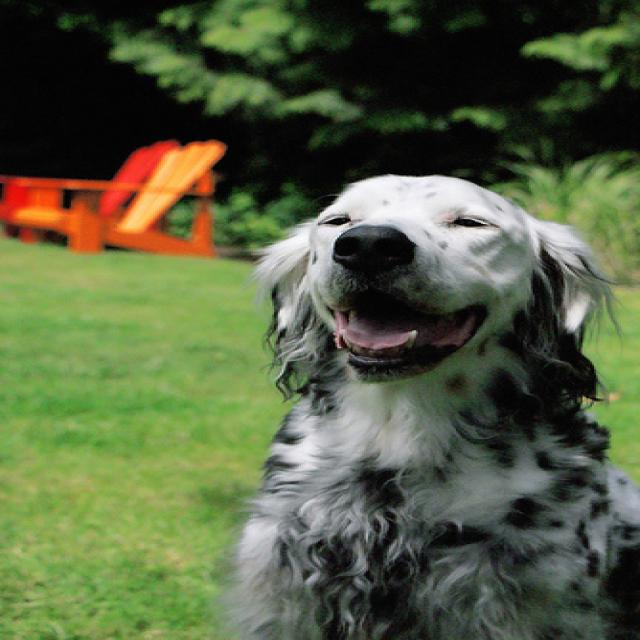dog: (253, 173, 600, 384)
